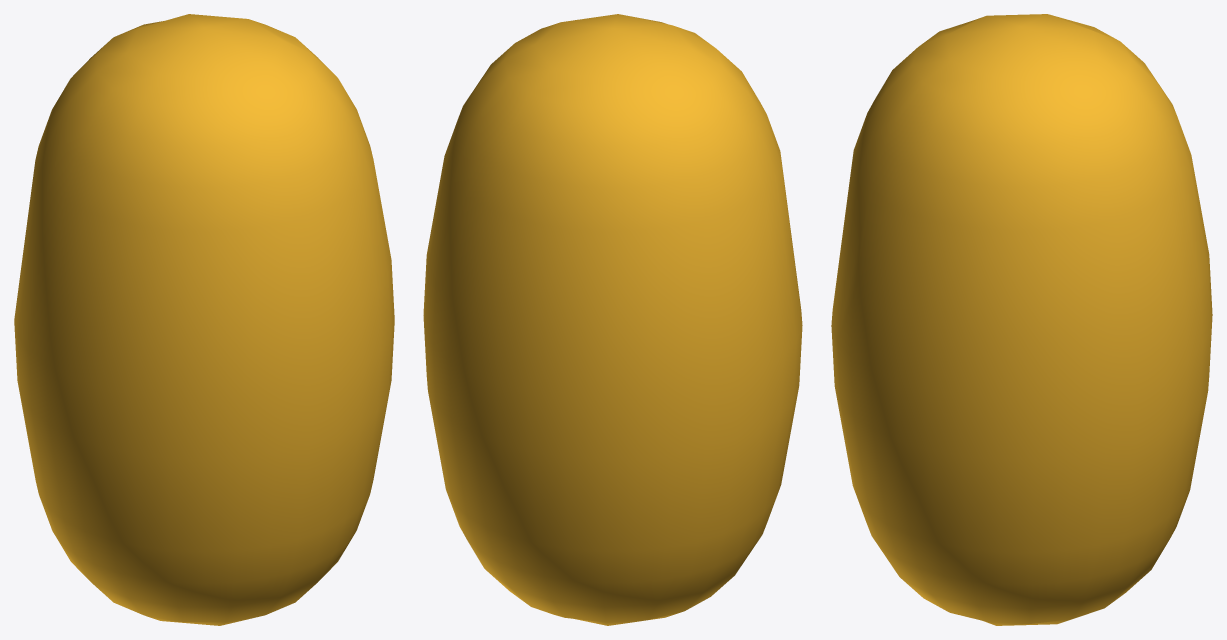
File: nervoso-posterior-cochlear-nucleus-r.glb
The picture shows the model from 3 angles, left to right: view 1: azimuth 30°, elevation 25°; view 2: azimuth 150°, elevation 25°; view 3: azimuth 270°, elevation 25°; orthographic projection.
Visible parts, largest first — view 1: Posterior cochlear nucleus.r; view 2: Posterior cochlear nucleus.r; view 3: Posterior cochlear nucleus.r.
Part boxes in pixels (left/top/right/bottom): Posterior cochlear nucleus.r: left=14, top=14, right=394, bottom=625; Posterior cochlear nucleus.r: left=423, top=14, right=802, bottom=625; Posterior cochlear nucleus.r: left=831, top=14, right=1212, bottom=625.
Bounding box in the file's own units: 0.0019 × 0.00323 × 0.0019.
